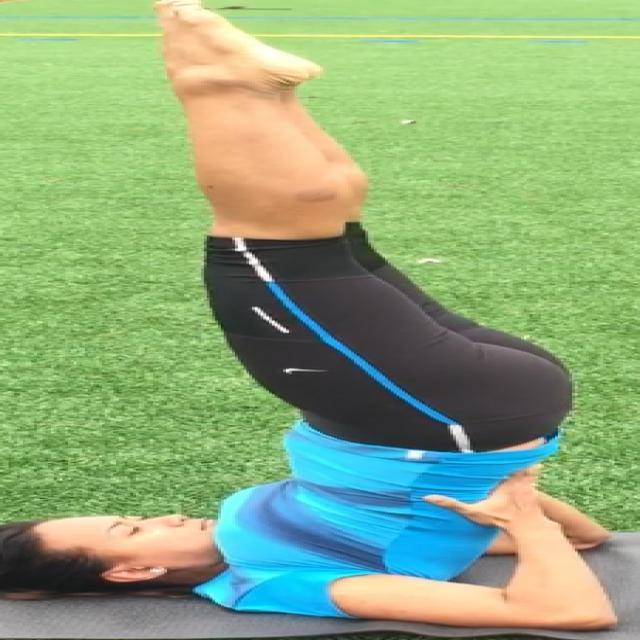yoga-pose shoulderstand: (20, 0, 640, 631)
